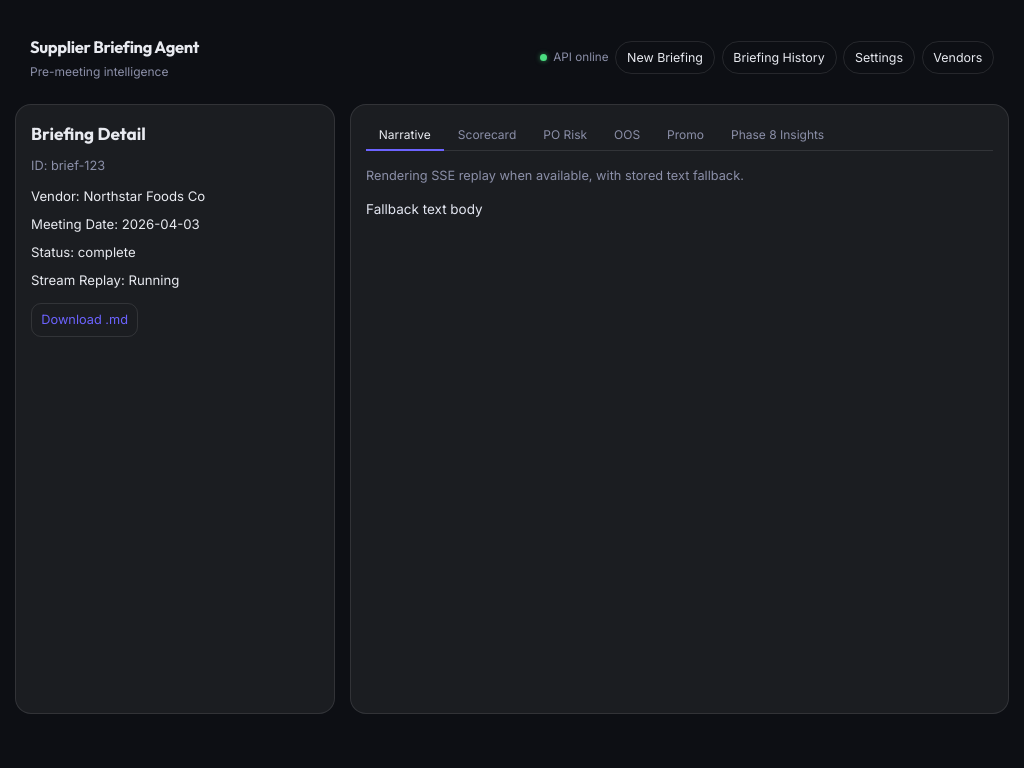
Test: BriefingDetailPage › switching to PO Risk tab shows po-risk no-data when po_risk is absent
Expected: the text "ID: brief-123" is shown, [31,158,105,173]
Click the button "PO Risk" at (565, 135), box [530,120,600,151]
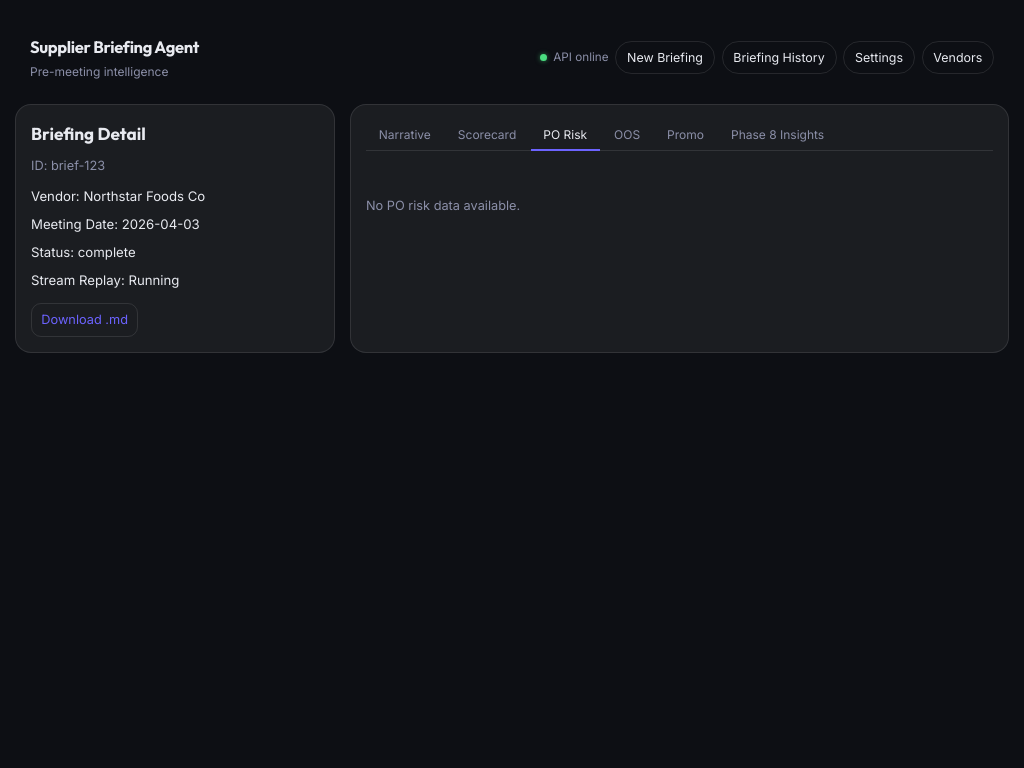
Now the text "No PO risk data available." is shown, box [366,198,520,213]
